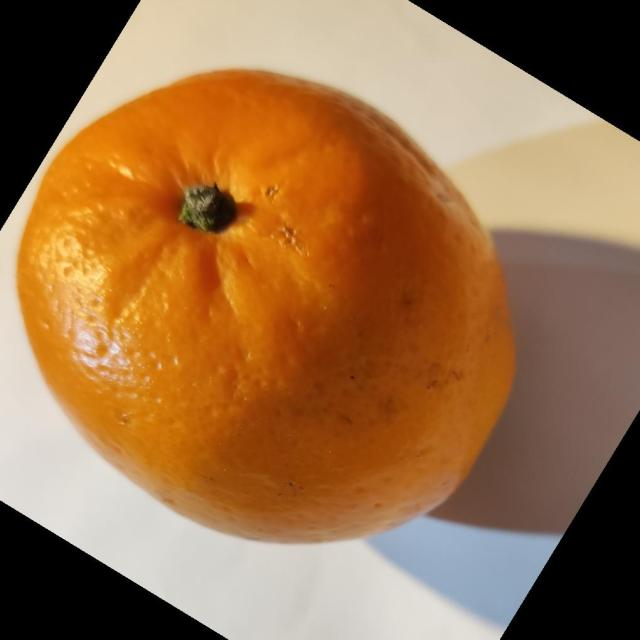fresh orange: (15, 67, 518, 545)
